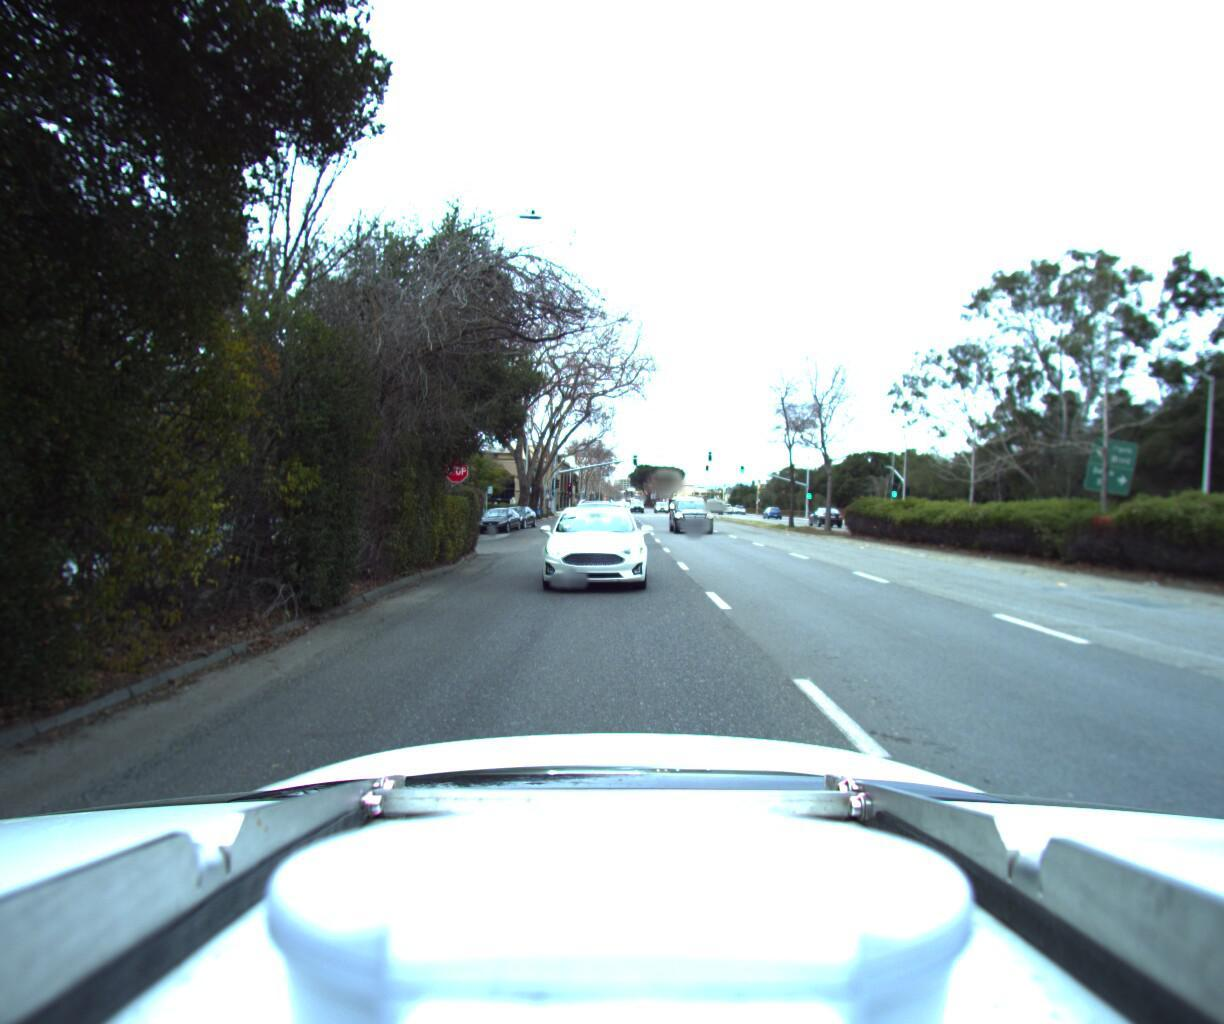car: (533, 496, 653, 601), (667, 490, 718, 528), (473, 498, 522, 526), (497, 496, 540, 522), (801, 498, 840, 520)
